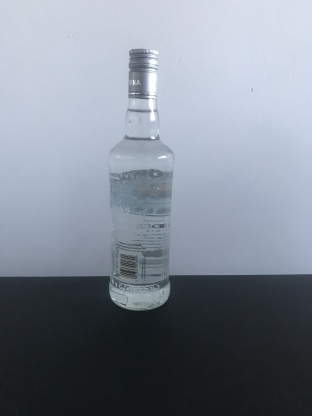nakretka: (126, 46, 160, 100)
